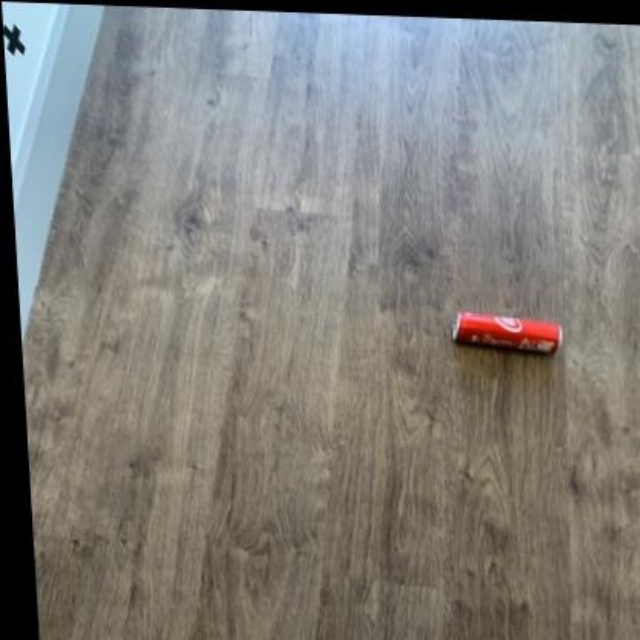trash: (452, 312, 562, 352)
